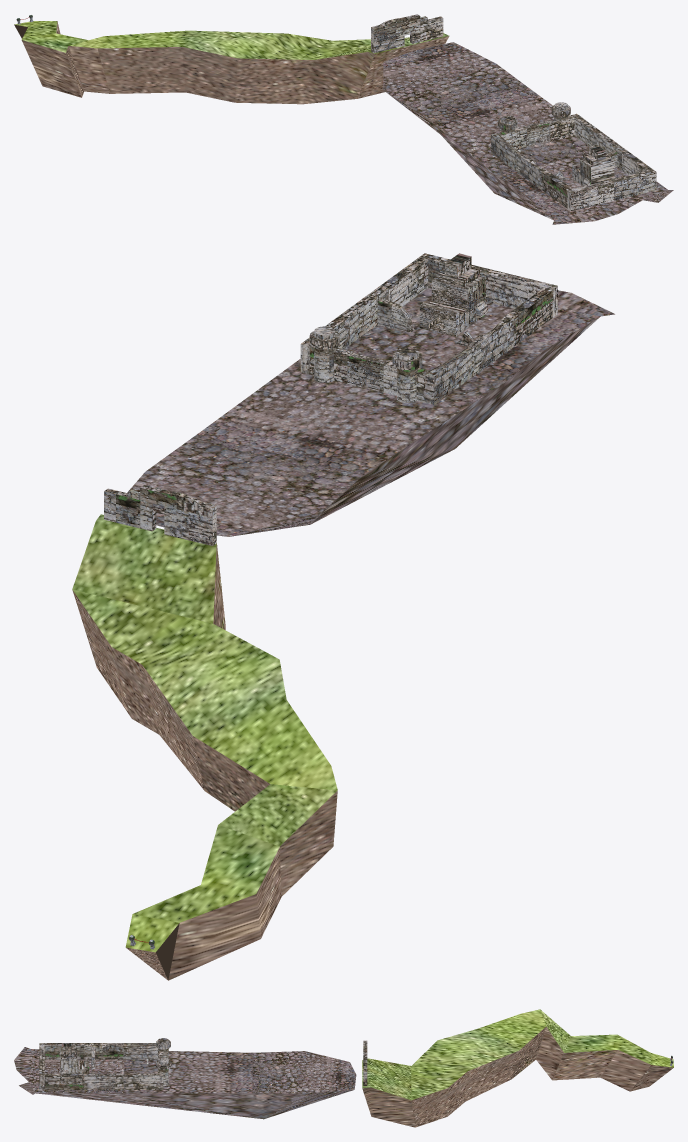
Rendered from castle_new.glb.
3 views of the same model, one above another, from view 1: azimuth 30°, elevation 25°; view 2: azimuth 150°, elevation 25°; view 3: azimuth 270°, elevation 25° (orthographic). The views are drawn at different scales.
Visible parts, largest first — view 1: Plane-col.001, GroundPlane-col.001, Cube.009-col, Cube.010-col, Object-col.002, Object-col.001, Object-col.003, Object-col; view 2: Plane-col.001, GroundPlane-col.001, Cube.009-col, Cube.010-col, Object-col.002, Object-col.001, Cylinder-col, Object-col.003, Cylinder.001-col, Object-col; view 3: Plane-col.001, GroundPlane-col.001, Cube.009-col, Cube.010-col, Cylinder-col, Cylinder.001-col.
Boxes of the visible parts, left/top/right/bottom form: Plane-col.001: left=14, top=21, right=449, bottom=104; GroundPlane-col.001: left=383, top=42, right=673, bottom=224; Cube.009-col: left=491, top=113, right=656, bottom=210; Cube.010-col: left=572, top=144, right=615, bottom=186; Object-col.002: left=371, top=19, right=396, bottom=53; Object-col.001: left=395, top=14, right=420, bottom=47; Object-col.003: left=420, top=16, right=443, bottom=41; Object-col: left=524, top=121, right=549, bottom=146; Plane-col.001: left=72, top=514, right=337, bottom=980; GroundPlane-col.001: left=127, top=288, right=614, bottom=536; Cube.009-col: left=300, top=253, right=557, bottom=404; Cube.010-col: left=419, top=253, right=487, bottom=336; Object-col.002: left=176, top=492, right=216, bottom=545; Object-col.001: left=140, top=485, right=179, bottom=537; Cylinder-col: left=309, top=326, right=339, bottom=382; Object-col.003: left=104, top=488, right=140, bottom=528; Cylinder.001-col: left=392, top=347, right=422, bottom=402; Object-col: left=347, top=352, right=386, bottom=392; Plane-col.001: left=362, top=1009, right=673, bottom=1127; GroundPlane-col.001: left=14, top=1047, right=356, bottom=1119; Cube.009-col: left=39, top=1043, right=163, bottom=1089; Cube.010-col: left=60, top=1043, right=89, bottom=1073; Cylinder-col: left=156, top=1058, right=170, bottom=1086; Cylinder.001-col: left=156, top=1038, right=170, bottom=1059.
Size of the model in its own units: 474 by 234 by 1246.
10 materials, 9 textured.
